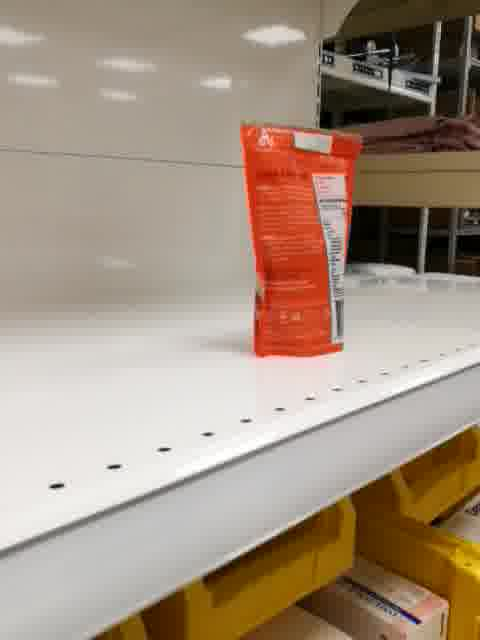whitechia: (235, 114, 364, 360)
